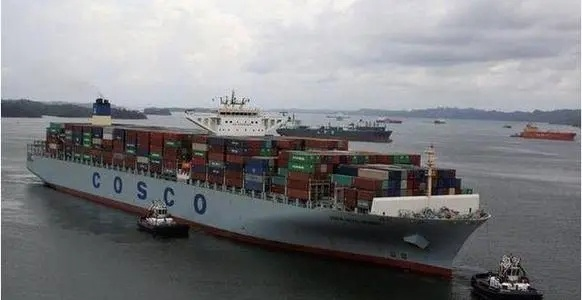Cargoship: (25, 94, 490, 279)
otherboat: (470, 251, 552, 300), (139, 196, 188, 241)
